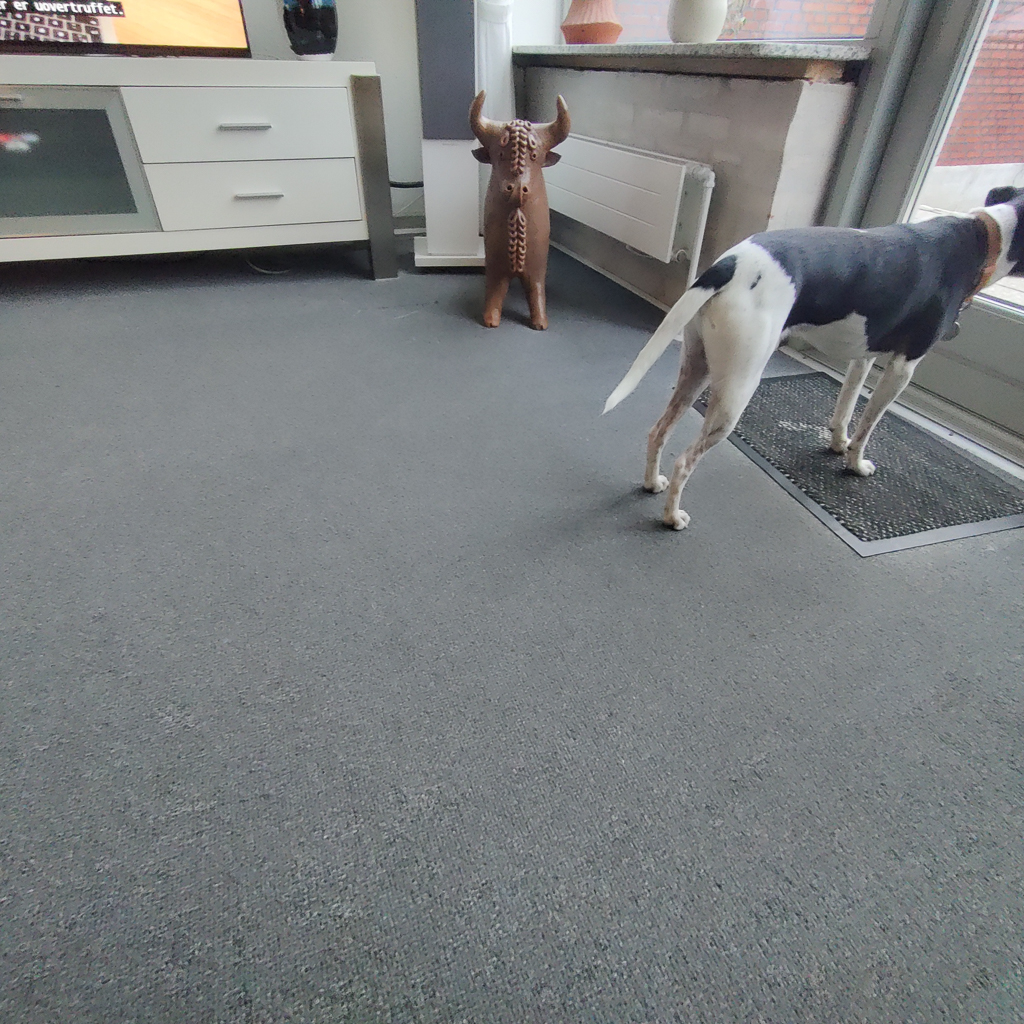Cattle: (442, 79, 596, 348)
Dog: (553, 150, 1024, 539)
Humanoid: (554, 0, 634, 32)
